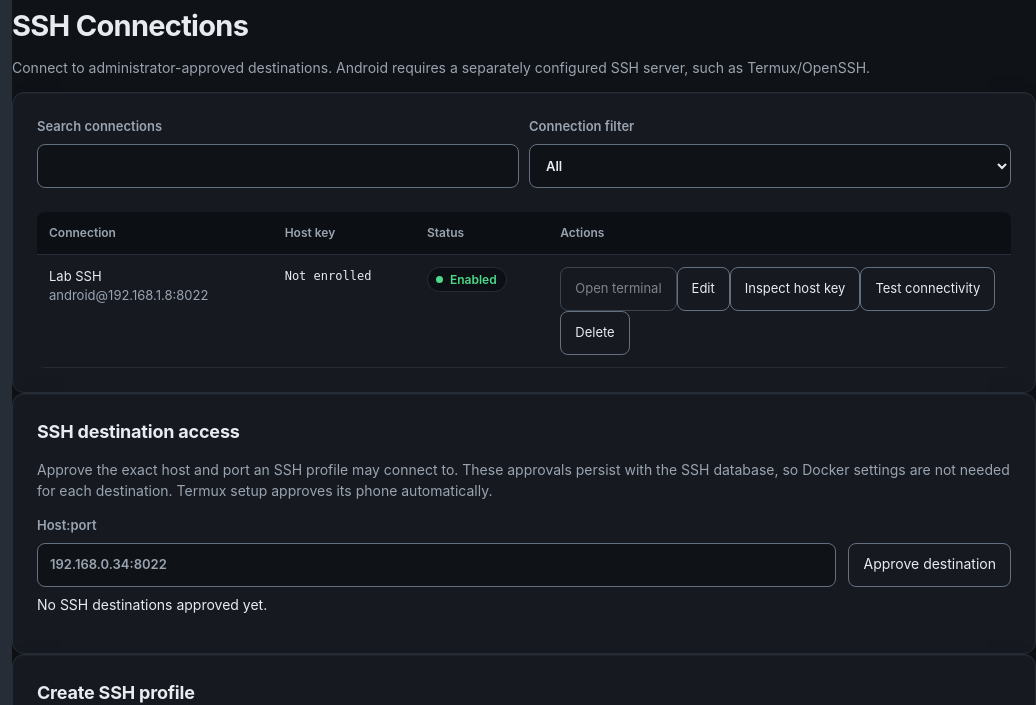
Scenario: filters profiles and reports connection test status
The width and height of the screenshot is (1036, 705).
Check: the text "Lab SSH" is shown, box top-left (49, 268), bottom-right (102, 284)
Click the button "Test connectivity" at (928, 289), box top-left (860, 267), bottom-right (995, 311)
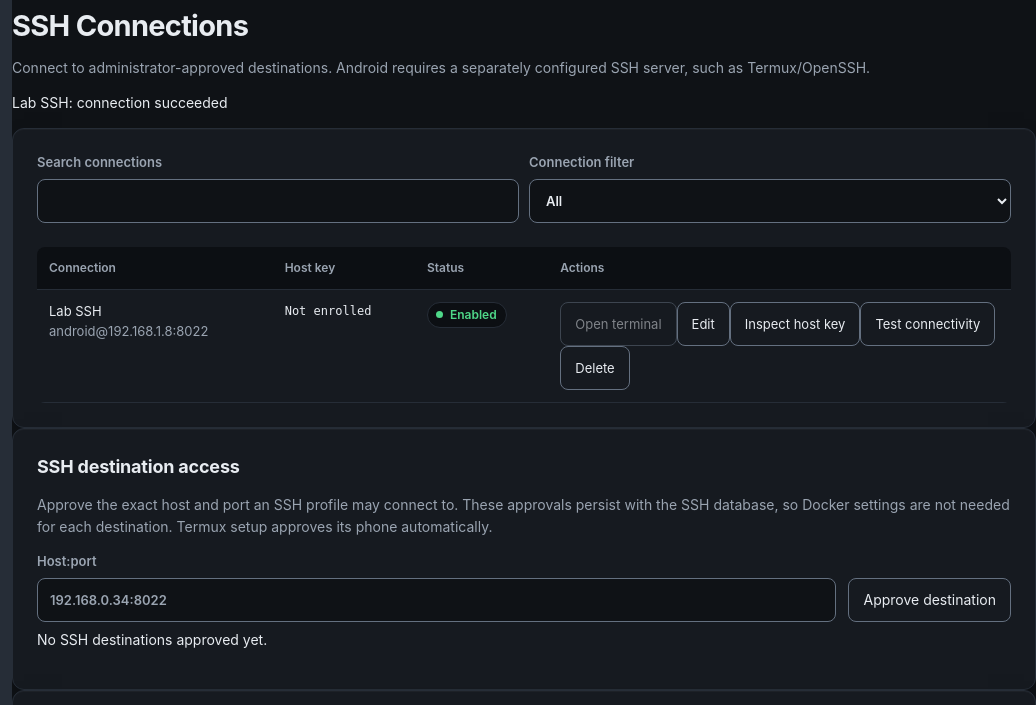
Check: the text "Lab SSH: connection succeeded" is shown, box top-left (12, 94), bottom-right (228, 111)
Type "unrelated" into the field labelled "Search connections" at (278, 201), box top-left (37, 179), bottom-right (519, 223)
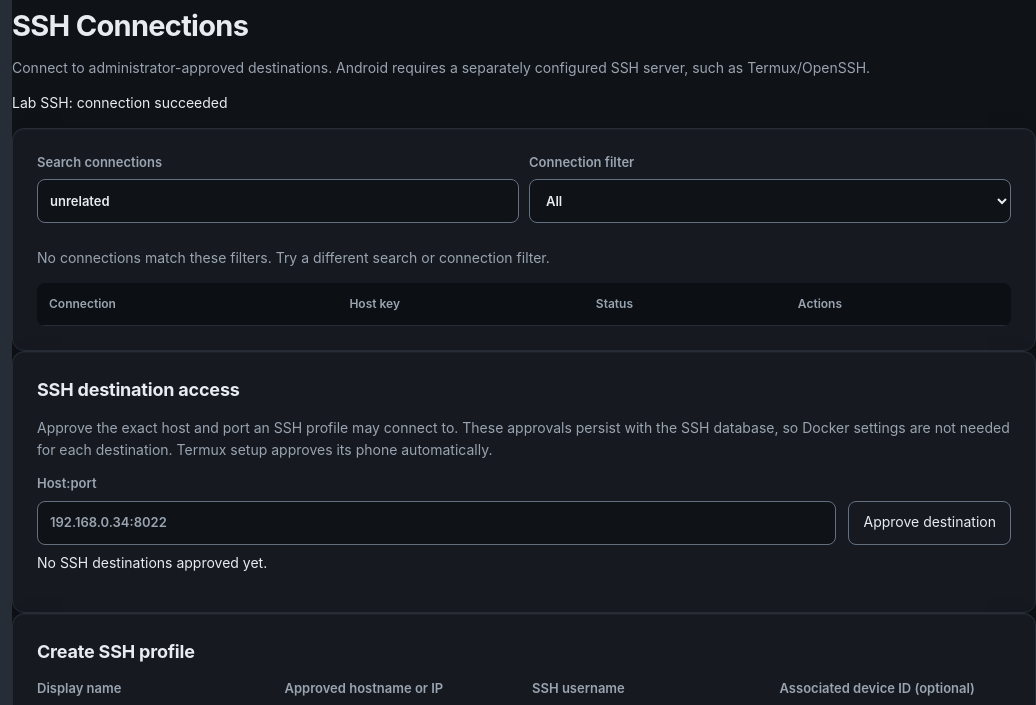
Check: the text "No connections match these filters. Try a different search or connection filter." is shown, box top-left (37, 249), bottom-right (550, 266)
